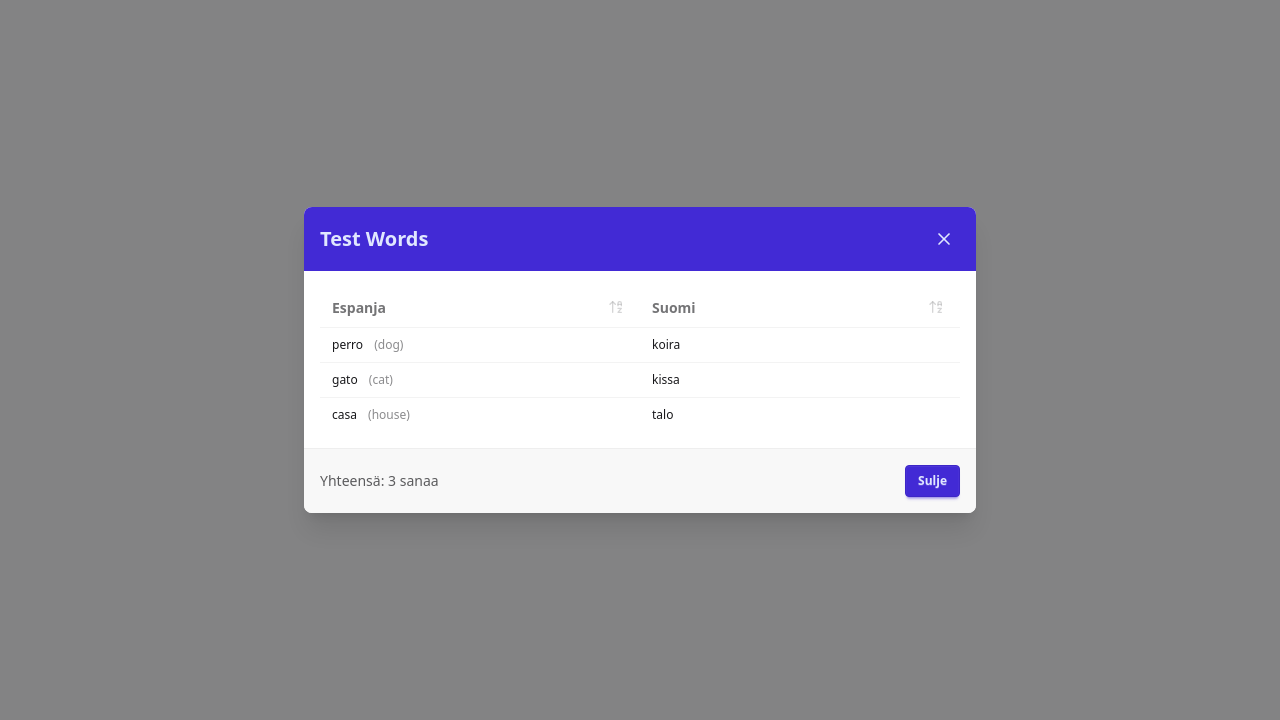
VocabularyWordListDialog › should sort by Finnish column when clicked
Click the 2nd button named "Järjestä Z-A": [936, 307] box [924,295,948,319]
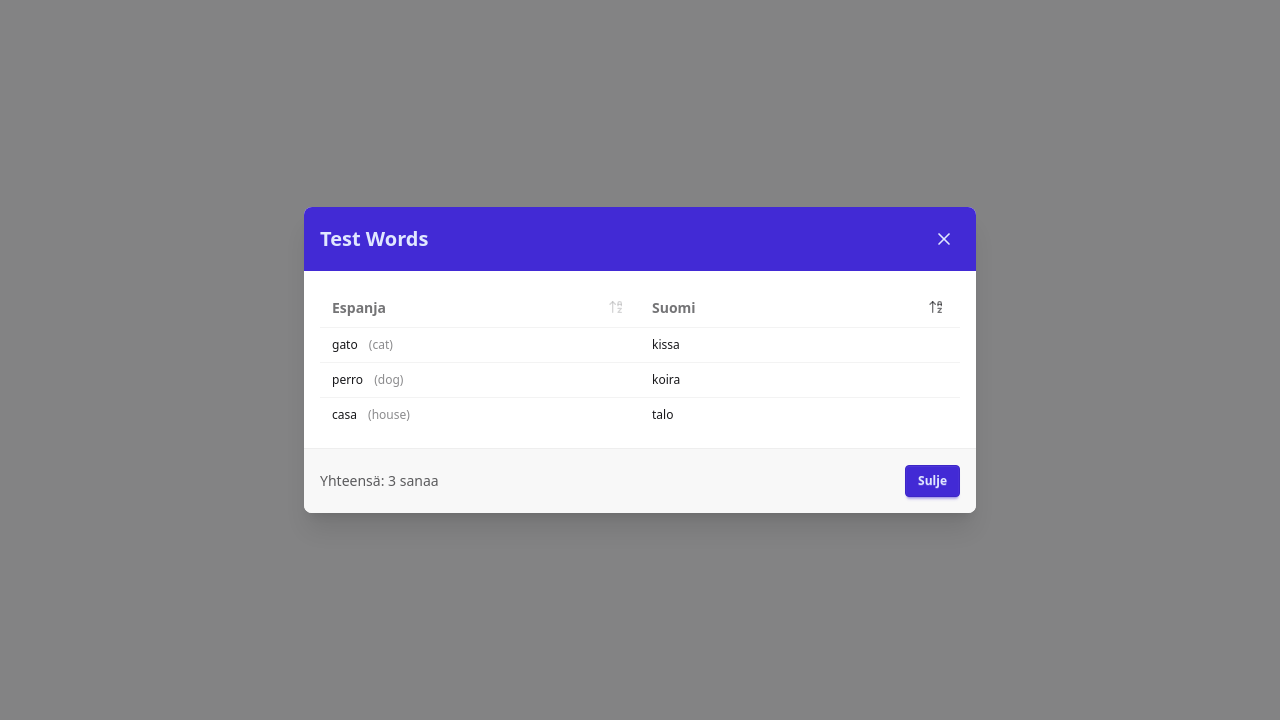
Expected: the row "casa (house) talo" is shown, [320,398,960,432]
Expected: the row "gato (cat) kissa" is shown, [320,328,960,363]
Expected: the row "perro (dog) koira" is shown, [320,363,960,398]
